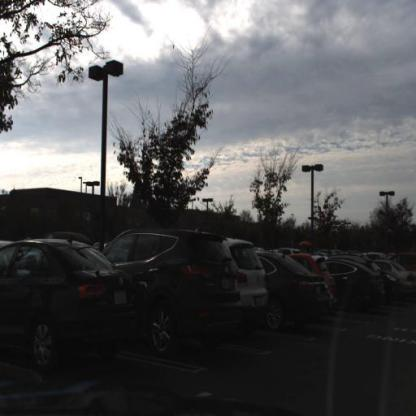car: (1, 237, 141, 379), (113, 223, 245, 363), (263, 252, 333, 334), (229, 235, 272, 327), (323, 259, 385, 313), (308, 250, 340, 319), (383, 264, 403, 317), (330, 258, 342, 323), (398, 262, 416, 305)
